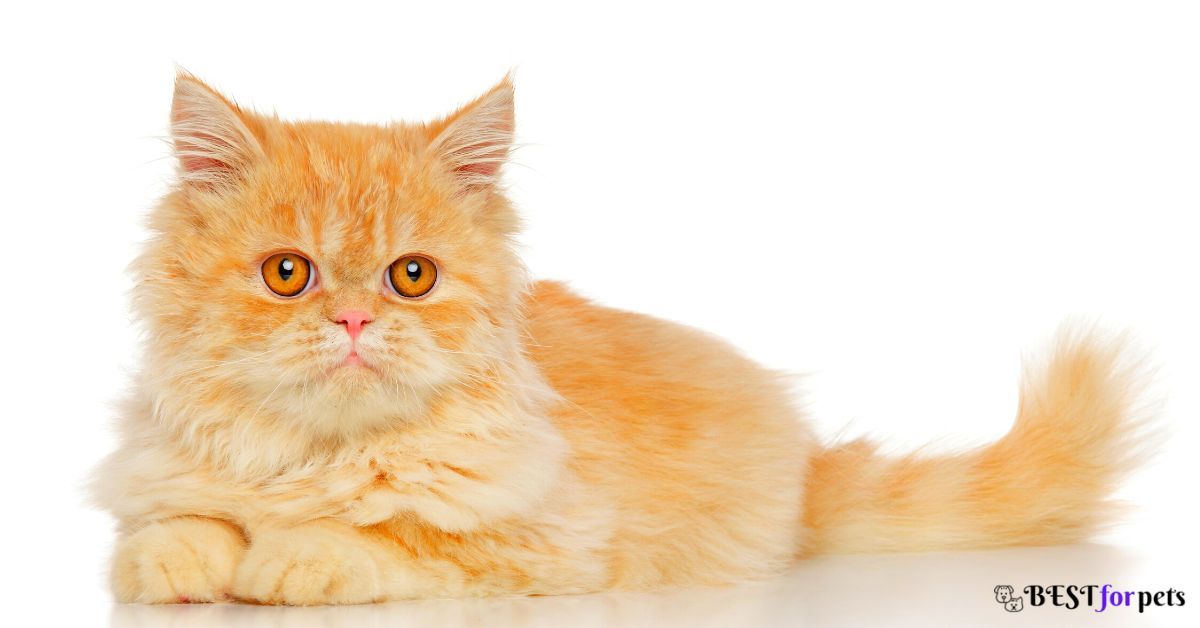cat: (147, 123, 490, 384)
